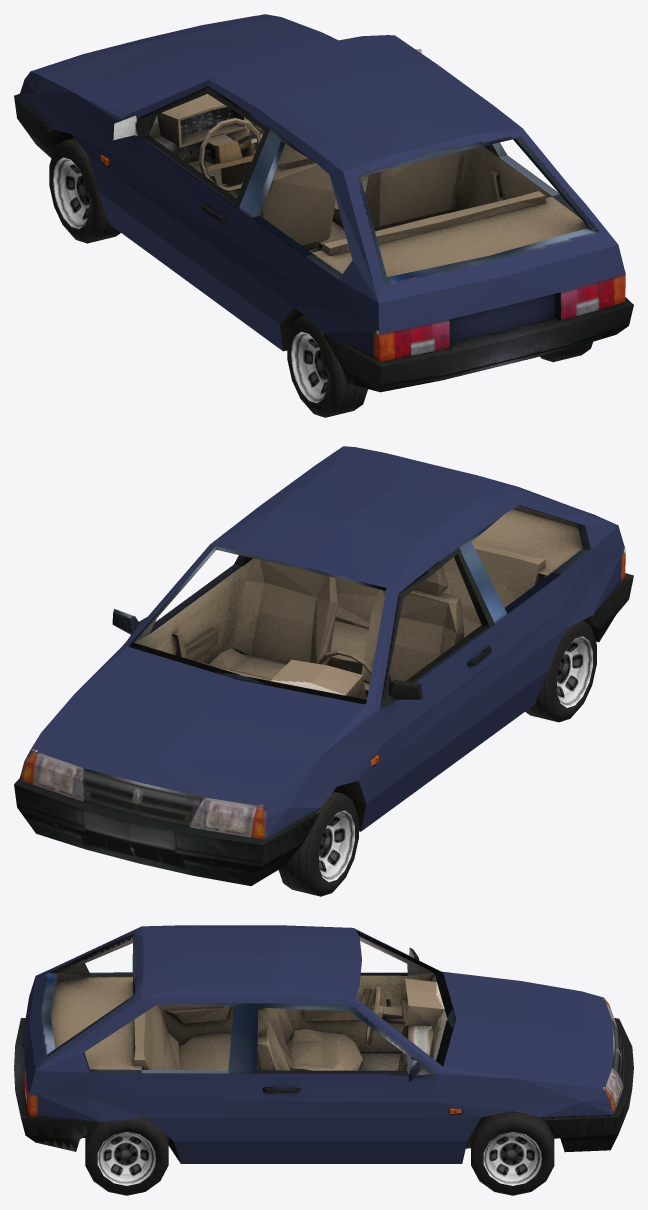
File: testcar.obj
The picture shows the model from 3 angles, top to bottom: view 1: azimuth 30°, elevation 25°; view 2: azimuth 150°, elevation 25°; view 3: azimuth 270°, elevation 25°; orthographic projection. The views are drawn at different scales.
Visible parts, largest first — view 1: wheel3; view 2: wheel3; view 3: wheel3.
Boxes of the visible parts, x1,y1,x2,y2 form: wheel3: [14, 14, 633, 417]; wheel3: [14, 446, 633, 896]; wheel3: [14, 925, 633, 1195].
Size of the model in its own units: 1.81 by 1.32 by 3.86.
Materials: 1 (1 with a texture image).
